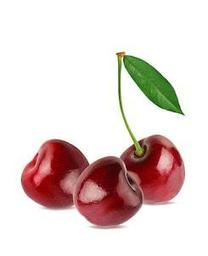cherry: (73, 156, 144, 226), (21, 139, 93, 208), (119, 135, 186, 203)
